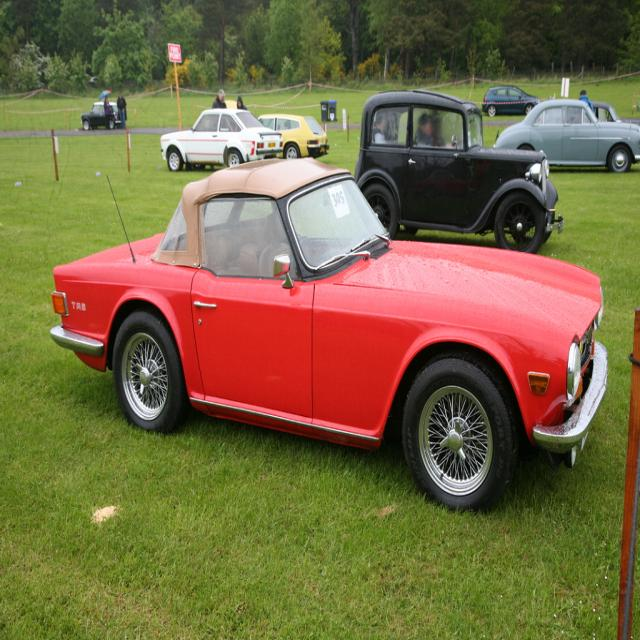car: (44, 158, 611, 517), (80, 99, 121, 132)
